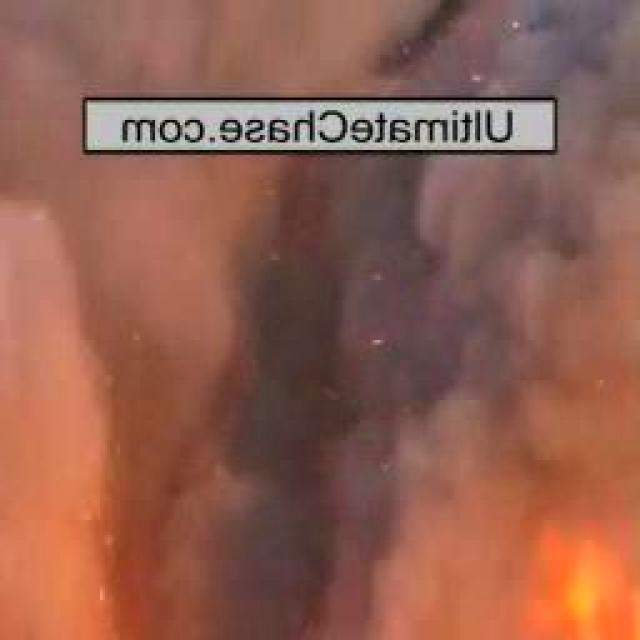Fire: (511, 437, 638, 640)
